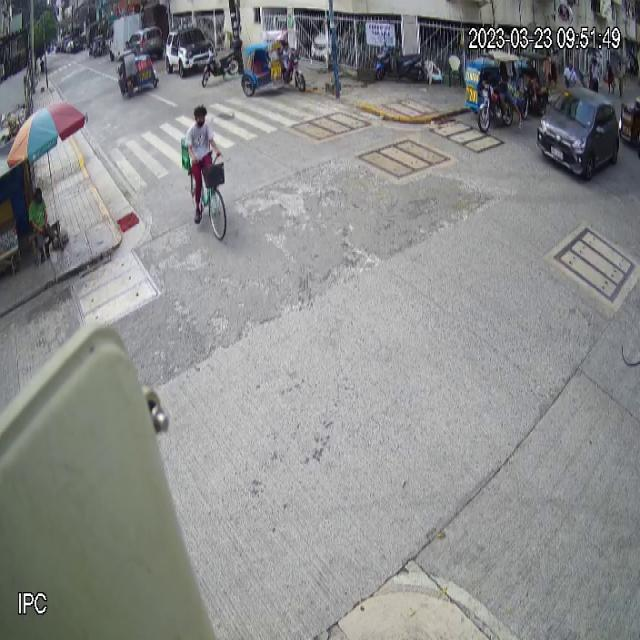Car: (536, 86, 620, 181)
Tricycle: (465, 50, 519, 133), (242, 31, 306, 98)
